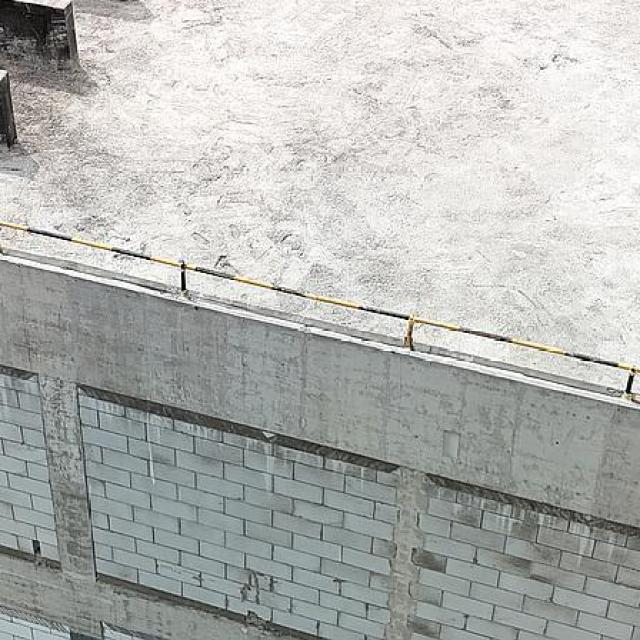edge_guardrail: (0, 218, 640, 401)
